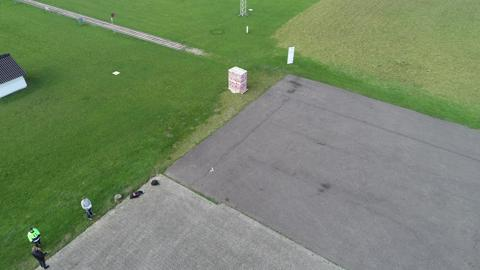RockwoolPallet: (227, 66, 248, 95)
